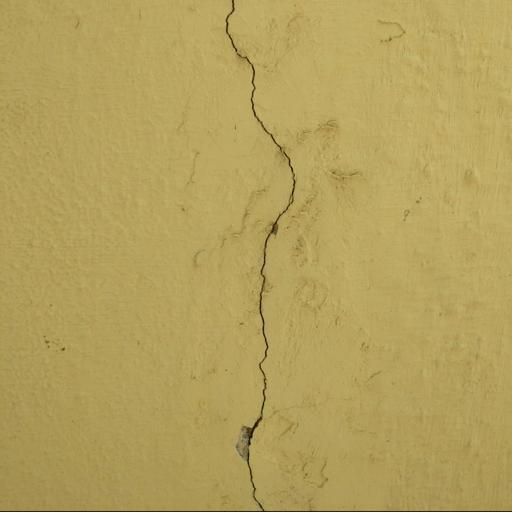major_crack: (208, 0, 305, 512)
